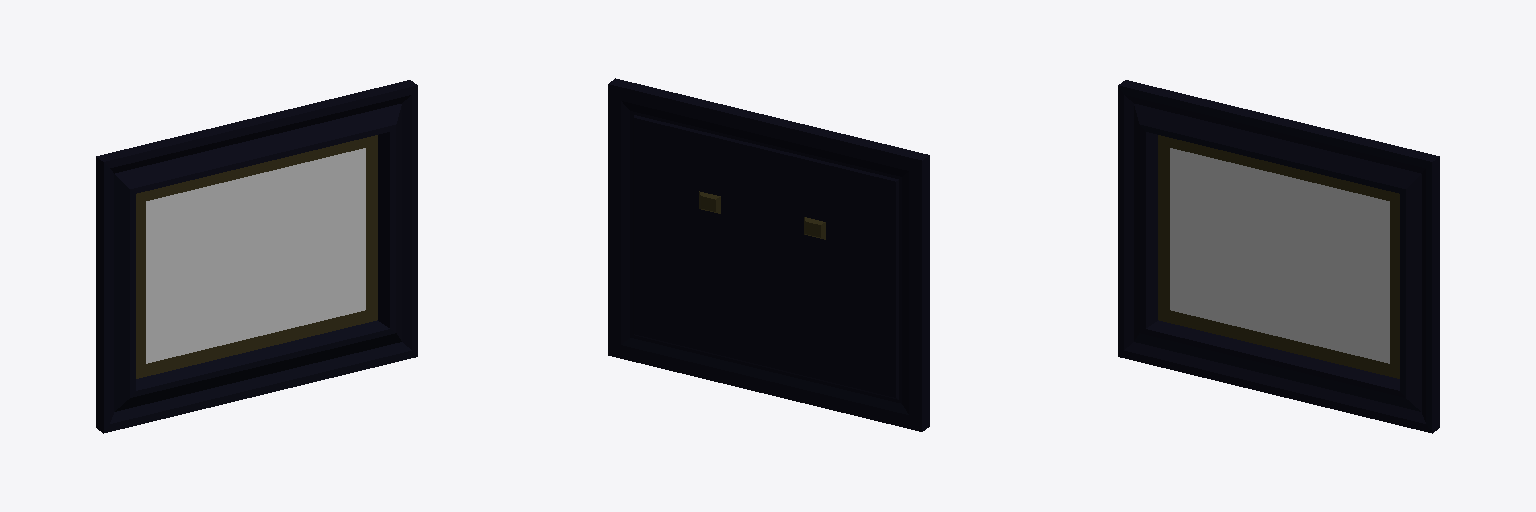
Rendered from Landscape_Hanging.obj.
3 views of the same model, side by side, from view 1: azimuth 30°, elevation 25°; view 2: azimuth 150°, elevation 25°; view 3: azimuth 330°, elevation 25° (orthographic).
Visible parts, largest first — view 1: HangingFrameLandscape_Cube.004; view 2: HangingFrameLandscape_Cube.004; view 3: HangingFrameLandscape_Cube.004.
Part boxes in pixels (x1,y1,x2,y2): HangingFrameLandscape_Cube.004: (96,80,417,433); HangingFrameLandscape_Cube.004: (608,78,929,431); HangingFrameLandscape_Cube.004: (1118,80,1439,433).
Bounding box in the file's own units: 1.8 × 1.48 × 0.1452.